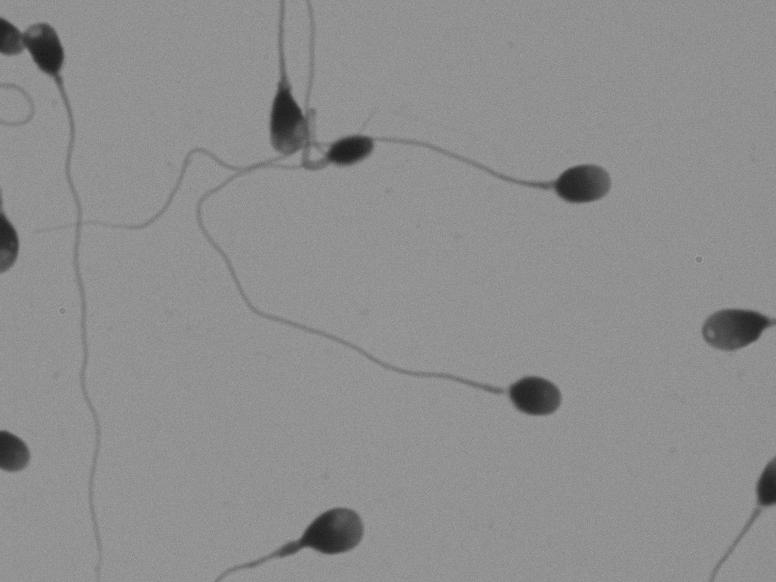Abnormal: (15, 14, 118, 558), (212, 12, 404, 205), (678, 258, 770, 391)
Normal: (178, 220, 593, 449), (376, 73, 651, 271)
